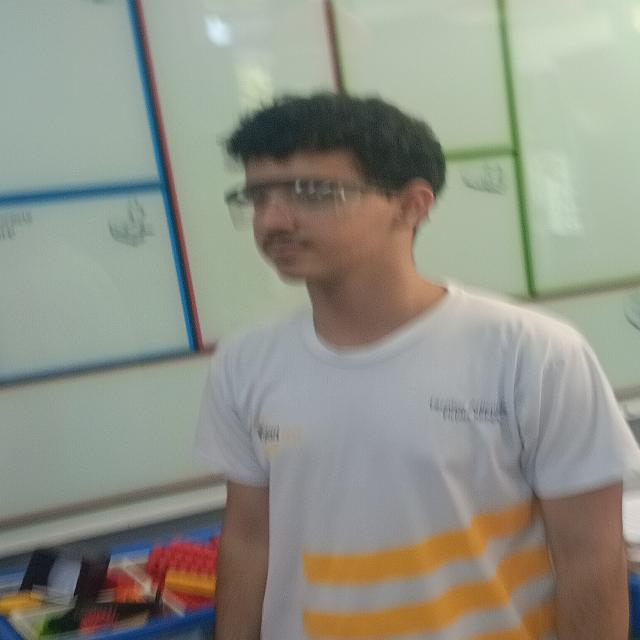oculos-epi: (225, 177, 375, 225)
